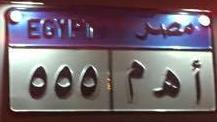5: (51, 62, 76, 99), (79, 61, 102, 99), (29, 64, 48, 97)
alif: (188, 58, 204, 106)
haa: (149, 64, 182, 104)
meem: (121, 57, 147, 102)
